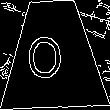O_N: (35, 28, 72, 81)
